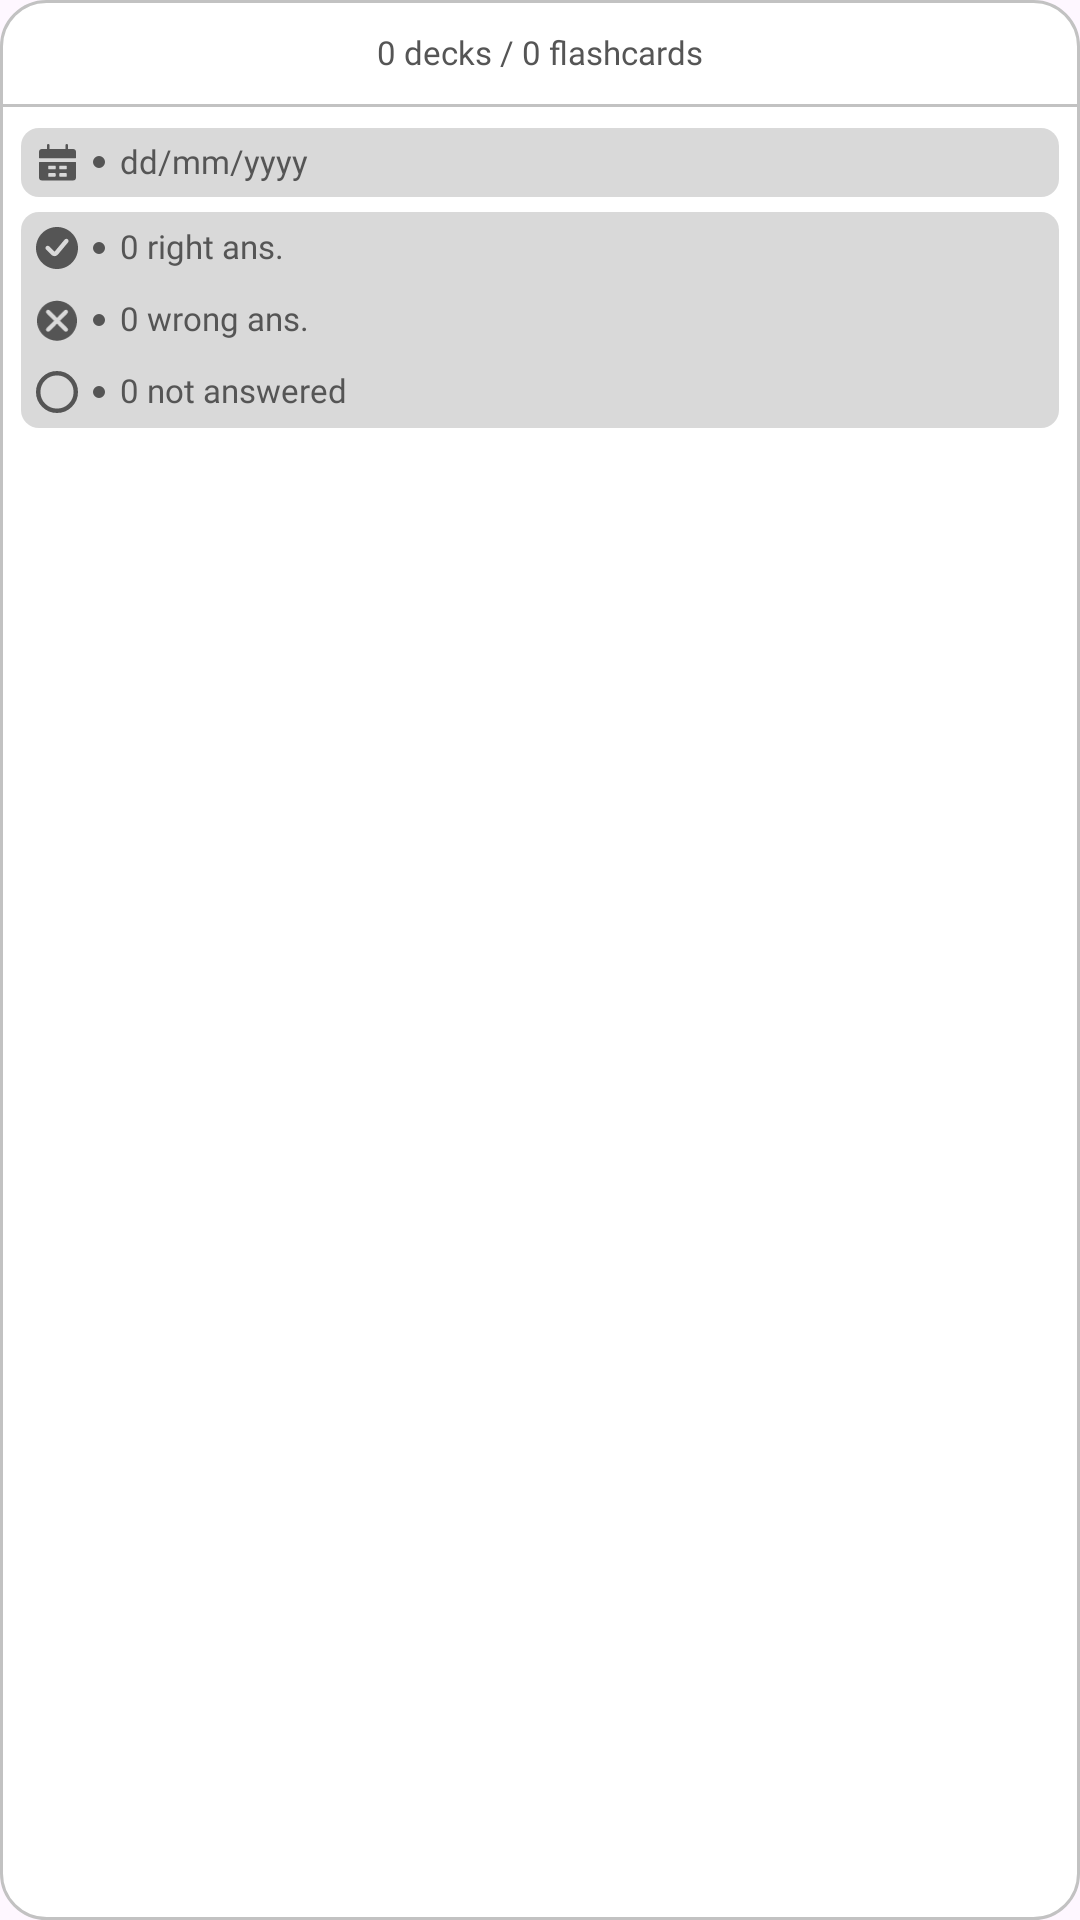

Icon click points for this 1080px×1920px phone screenshot, format (x,y):
calendar: (57,162)
result null: (57,392)
result right: (57,248)
result wrong: (57,320)
